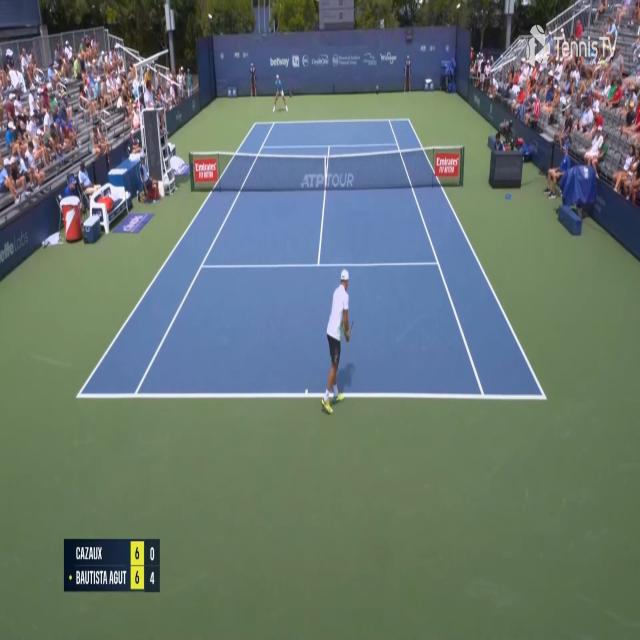tennis-player: (318, 266, 354, 418), (271, 76, 289, 114)
